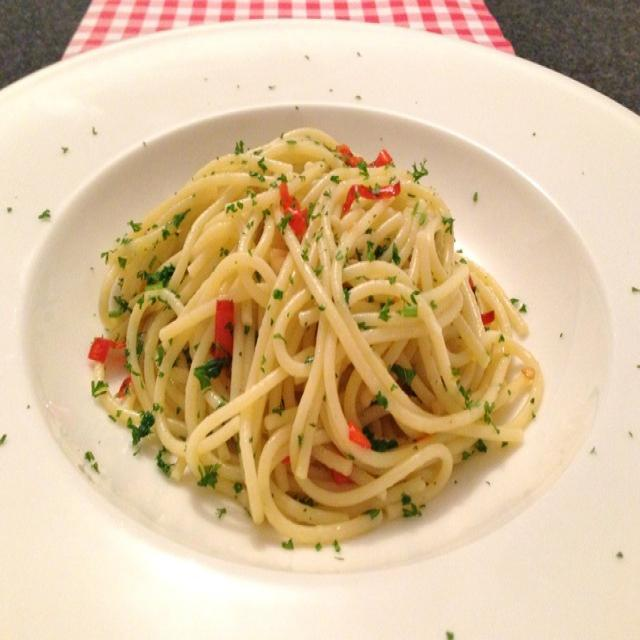Oil pasta: (63, 75, 564, 542)
